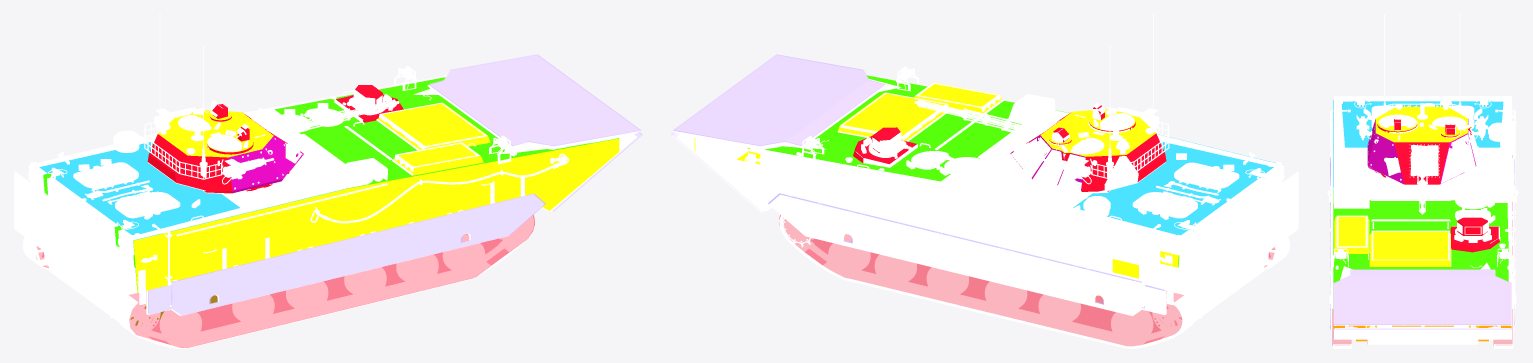
Rendered from ZBD05.gltf.
The picture shows the model from 3 angles, left to right: view 1: azimuth 30°, elevation 25°; view 2: azimuth 150°, elevation 25°; view 3: azimuth 270°, elevation 25°; orthographic projection. The views are drawn at different scales.
Visible parts, largest first — view 1: 3_3, ZBD2000_Chassis_Col_3, 3_1, ZBD2000_Skirt_Col2_29, ZBD2000_Tracks_Right_Col_35, ZBD2000_FrontWaterRamp2_Col_38, 3, 3_2, ZBD2000_Chassis_Col, ZBD2000_Chassis_Col_1, 3_5, 3_8 (+7 smaller); view 2: 3_3, 3, 3_1, ZBD2000_Tracks_Left_Col_32, ZBD2000_FrontWaterRamp2_Col_38, 3_2, 3_8, ZBD2000_Chassis_Col, ZBD2000_Chassis_Col_1, 3_4, ZBD2000_Chassis_Col_3, ZBD2000_Turret_Col_2 (+5 smaller); view 3: 3_1, ZBD2000_FrontWaterRamp2_Col_38, 3_3, 3, ZBD2000_Chassis_Col, ZBD2000_Chassis_Col_3, 3_8, ZBD2000_Chassis_Col_1, ZBD2000_Turret_Col_2, ZBD2000_Turret_Col_1, ZBD2000_Turret_Col, 3_9 (+8 smaller).
Boxes of the visible parts, x1=… form: 3_3: x1=28, y1=66, x2=568, y2=315; ZBD2000_Chassis_Col_3: x1=133, y1=103, x2=619, y2=292; 3_1: x1=14, y1=56, x2=641, y2=318; ZBD2000_Skirt_Col2_29: x1=148, y1=193, x2=545, y2=315; ZBD2000_Tracks_Right_Col_35: x1=129, y1=215, x2=534, y2=347; ZBD2000_FrontWaterRamp2_Col_38: x1=428, y1=54, x2=640, y2=146; 3: x1=28, y1=75, x2=617, y2=321; 3_2: x1=37, y1=218, x2=533, y2=345; ZBD2000_Chassis_Col: x1=43, y1=77, x2=618, y2=325; ZBD2000_Chassis_Col_1: x1=39, y1=142, x2=344, y2=240; 3_5: x1=116, y1=216, x2=534, y2=348; 3_8: x1=144, y1=14, x2=307, y2=193; 3_3: x1=744, y1=66, x2=1284, y2=316; 3: x1=695, y1=79, x2=1283, y2=325; 3_1: x1=672, y1=56, x2=1298, y2=318; ZBD2000_Tracks_Left_Col_32: x1=779, y1=215, x2=1183, y2=345; ZBD2000_FrontWaterRamp2_Col_38: x1=673, y1=54, x2=885, y2=145; 3_2: x1=779, y1=218, x2=1275, y2=345; 3_8: x1=1006, y1=14, x2=1169, y2=193; ZBD2000_Chassis_Col: x1=748, y1=75, x2=1179, y2=267; ZBD2000_Chassis_Col_1: x1=1073, y1=134, x2=1282, y2=235; 3_4: x1=779, y1=215, x2=1196, y2=348; ZBD2000_Chassis_Col_3: x1=694, y1=82, x2=1178, y2=278; ZBD2000_Turret_Col_2: x1=1040, y1=109, x2=1155, y2=156; 3_1: x1=1334, y1=96, x2=1511, y2=344; ZBD2000_FrontWaterRamp2_Col_38: x1=1333, y1=269, x2=1511, y2=324; 3_3: x1=1327, y1=96, x2=1518, y2=330; 3: x1=1334, y1=99, x2=1511, y2=340; ZBD2000_Chassis_Col: x1=1333, y1=189, x2=1508, y2=317; ZBD2000_Chassis_Col_3: x1=1334, y1=216, x2=1450, y2=266; 3_8: x1=1361, y1=14, x2=1483, y2=184; ZBD2000_Chassis_Col_1: x1=1333, y1=99, x2=1503, y2=188; ZBD2000_Turret_Col_2: x1=1375, y1=106, x2=1470, y2=142; ZBD2000_Turret_Col_1: x1=1374, y1=119, x2=1471, y2=184; ZBD2000_Turret_Col: x1=1367, y1=119, x2=1476, y2=184; 3_9: x1=1410, y1=145, x2=1438, y2=214.
Bounding box in the file's own units: 9.65 × 4.73 × 3.54.
